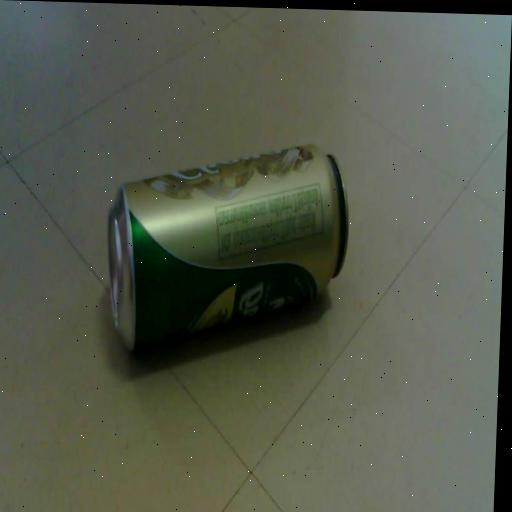canned: (88, 120, 361, 381)
